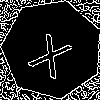X: (27, 24, 79, 80)
